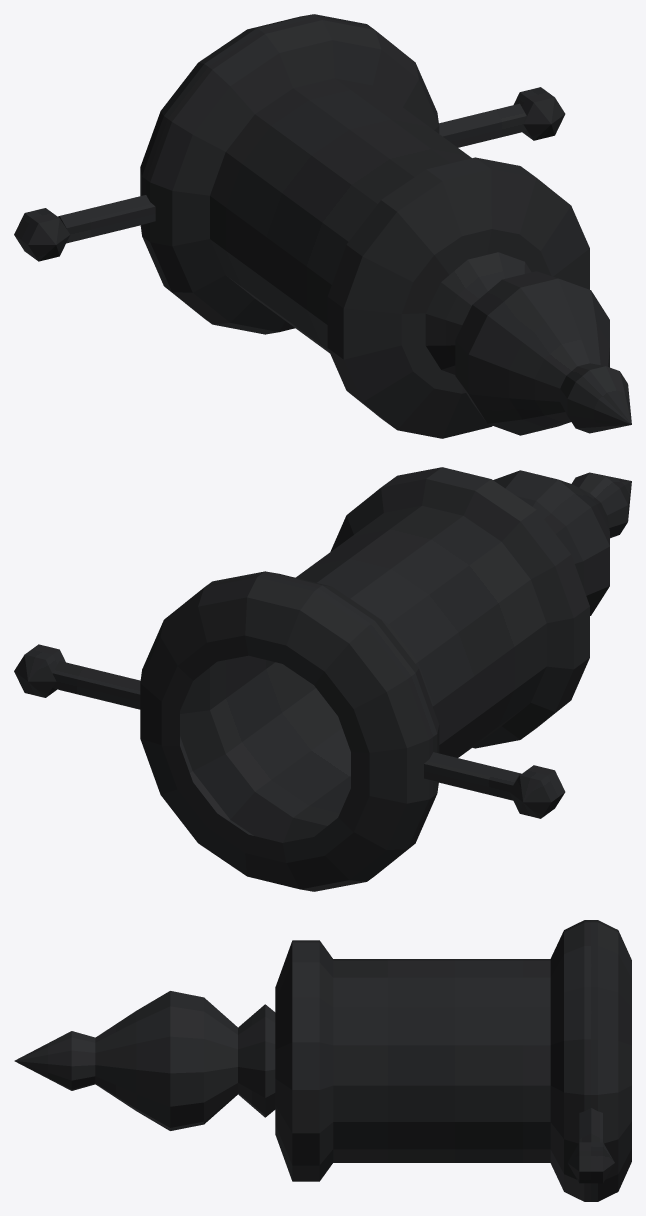
File: decopole_anaheim_cap_s.obj
3 views of the same model, one above another, from view 1: azimuth 30°, elevation 25°; view 2: azimuth 150°, elevation 25°; view 3: azimuth 270°, elevation 25° (orthographic). The views are drawn at different scales.
Parts seen in each view (by area): view 1: decopole_anaheim_cap_s; view 2: decopole_anaheim_cap_s; view 3: decopole_anaheim_cap_s.
Part boxes in pixels (x1,y1,x2,y2): decopole_anaheim_cap_s: (14,14,631,438); decopole_anaheim_cap_s: (14,467,631,891); decopole_anaheim_cap_s: (14,920,631,1201).
Bounding box in the file's own units: 0.9633 × 0.5149 × 1.14.
